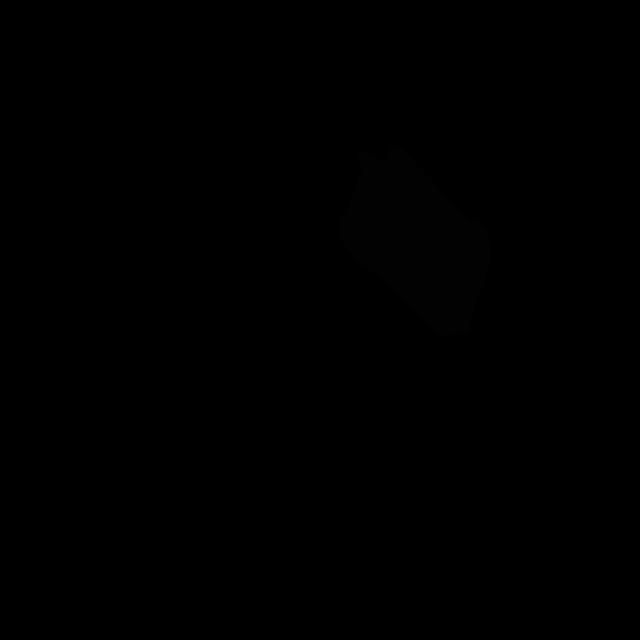cardboard: (339, 145, 491, 337)
